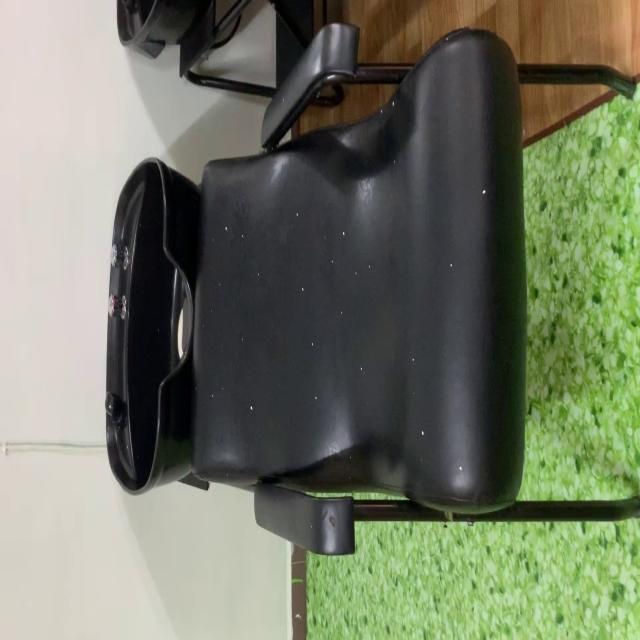Chair: (98, 22, 636, 568)
